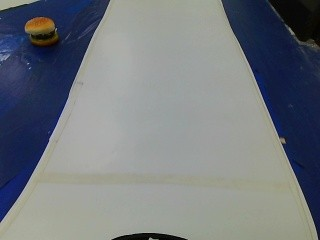burger: (20, 15, 60, 48)
